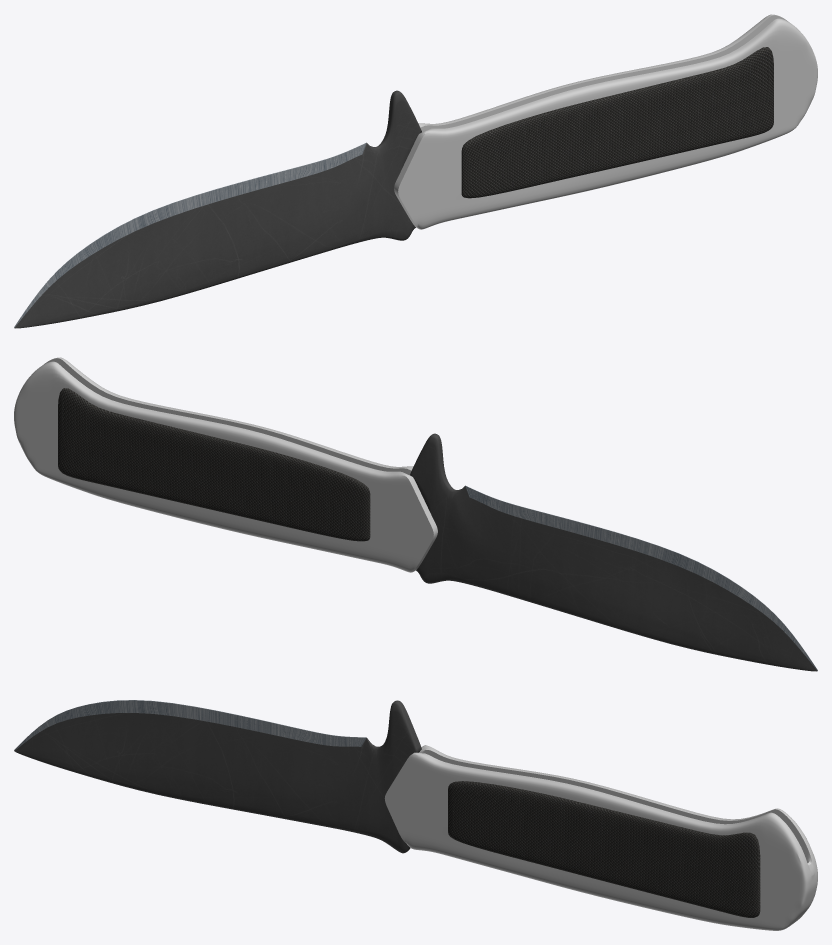
File: bicska.fbx
The picture shows the model from 3 angles, top to bottom: view 1: azimuth 30°, elevation 25°; view 2: azimuth 150°, elevation 25°; view 3: azimuth 330°, elevation 25°; orthographic projection.
Parts seen in each view (by area): view 1: markoalt, penge; view 2: markoalt, penge; view 3: markoalt, penge.
Part boxes in pixels (box(x1,y1,x2,y2)): markoalt: box(394, 14, 817, 229); penge: box(14, 90, 421, 328); markoalt: box(14, 357, 437, 572); penge: box(410, 433, 817, 671); markoalt: box(384, 745, 817, 930); penge: box(14, 700, 421, 853).
Bounding box in the file's own units: 519 × 93.66 × 20.51.
